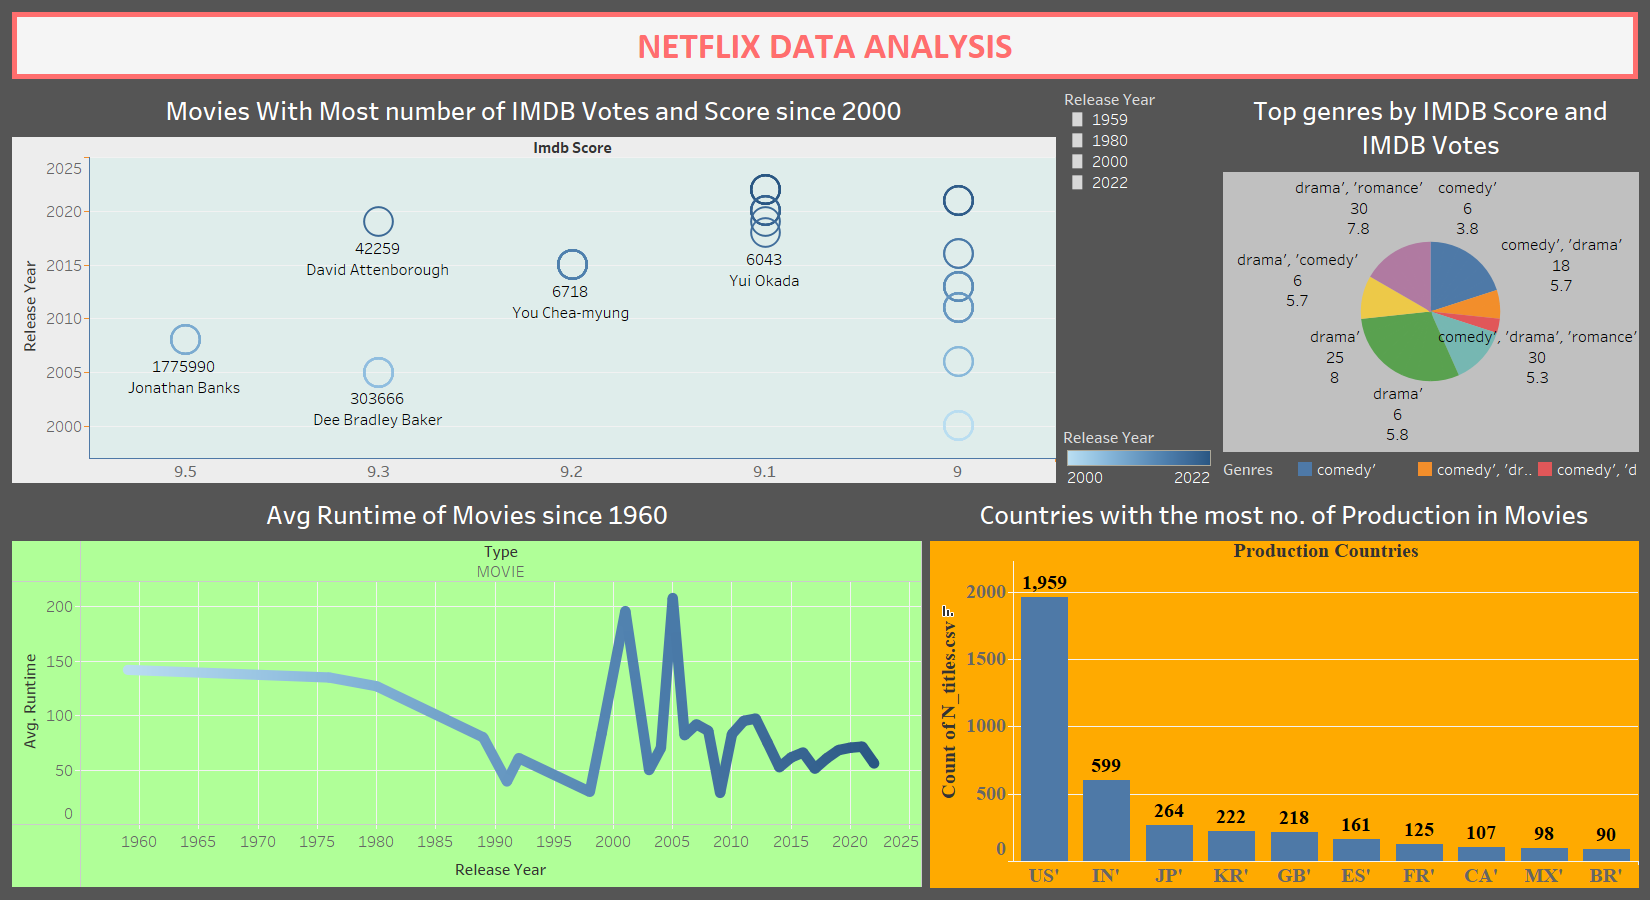

The dashboard page shown, as its layout file describes it:
{"tool":"tableau","page":{"name":"Dashboard 1","canvas":[1650,900],"ordinal":0},"visuals":[{"type":"title","box":[8,8,1634,75]},{"type":"worksheet","title":"Sheet 2","mark":"Shape","rows":["release_year"],"cols":["imdb_score"],"box":[8,83,1051,404.5]},{"type":"legend","title":"Sheet 5","param":"[federated.0u0ofho1ftd6c419cy6590bnn6a2].[none:release_year:qk]","box":[1059,83,160,335.8]},{"type":"worksheet","title":"Sheet 1","mark":"Pie","box":[1219,83,423,372.5]},{"type":"legend","title":"Sheet 2","param":"[federated.0u0ofho1ftd6c419cy6590bnn6a2].[none:release_year:qk]","box":[1059,418.8,160,68.7]},{"type":"legend","title":"Sheet 1","param":"[federated.0u0ofho1ftd6c419cy6590bnn6a2].[attr:genres:nk]","box":[1219,455.5,423,32]},{"type":"worksheet","title":"Sheet 5","mark":"Line","rows":["runtime"],"cols":["type","release_year"],"box":[8,487.5,918,404.5]},{"type":"worksheet","title":"Sheet 3","mark":"Automatic","rows":["N_titles.csv_C5EEFC4C7AC24439B1A12203547BA5CB"],"cols":["production_countries"],"box":[926,487.5,716,404.5]}]}

Visuals, with their boxes in screenshot pixels (x1, y1, x2, y2), scaled from the page's 1650x900 canvas onto the 1650x900 screenshot:
title: rect(8, 8, 1642, 83)
"Sheet 2" worksheet (Shape marks): rect(8, 83, 1059, 488)
"Sheet 5" legend: rect(1059, 83, 1219, 419)
"Sheet 1" worksheet (Pie marks): rect(1219, 83, 1642, 456)
"Sheet 2" legend: rect(1059, 419, 1219, 488)
"Sheet 1" legend: rect(1219, 456, 1642, 488)
"Sheet 5" worksheet (Line marks): rect(8, 488, 926, 892)
"Sheet 3" worksheet: rect(926, 488, 1642, 892)
